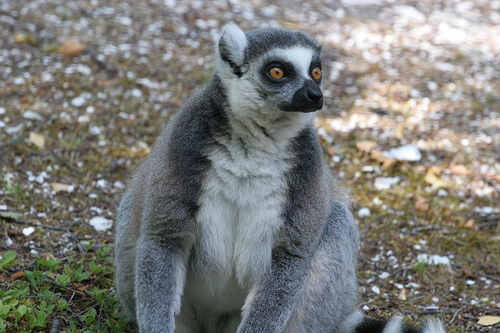cat: (115, 23, 444, 332)
